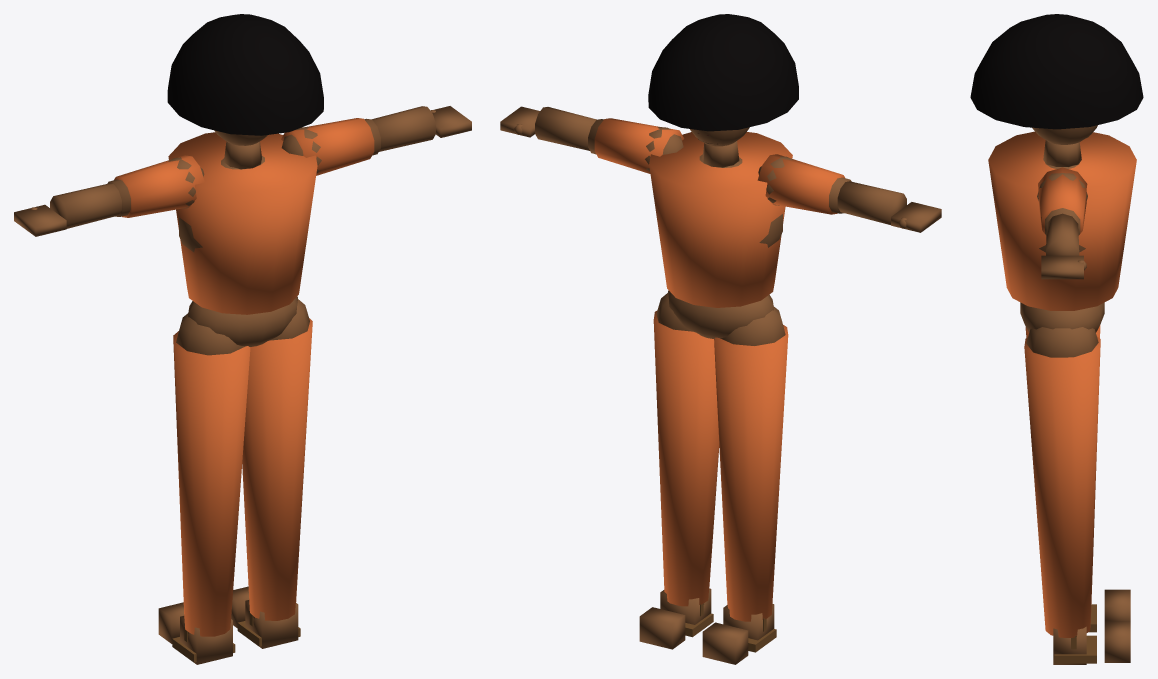
File: Tunde.obj
3 renders of one model, left to right at view 1: azimuth 30°, elevation 25°; view 2: azimuth 150°, elevation 25°; view 3: azimuth 270°, elevation 25°, orthographic. The views are drawn at different scales.
Visible parts, largest first — view 1: Tunde, Tunde_body, Tunde_hair, Tunde_shoes; view 2: Tunde, Tunde_body, Tunde_hair, Tunde_shoes; view 3: Tunde, Tunde_hair, Tunde_body, Tunde_shoes.
Boxes of the visible parts, box(x1,y1,x2,y2) form: Tunde: box(114, 118, 374, 636); Tunde_body: box(14, 106, 471, 664); Tunde_hair: box(167, 14, 323, 135); Tunde_shoes: box(172, 611, 300, 662); Tunde: box(594, 118, 844, 621); Tunde_body: box(500, 106, 941, 664); Tunde_hair: box(648, 14, 798, 131); Tunde_shoes: box(685, 603, 776, 652); Tunde: box(988, 131, 1136, 637); Tunde_hair: box(970, 14, 1143, 129); Tunde_body: box(1020, 125, 1130, 664); Tunde_shoes: box(1054, 604, 1096, 663).
Size of the model in its own units: 1.34 by 1.84 by 0.4659.
